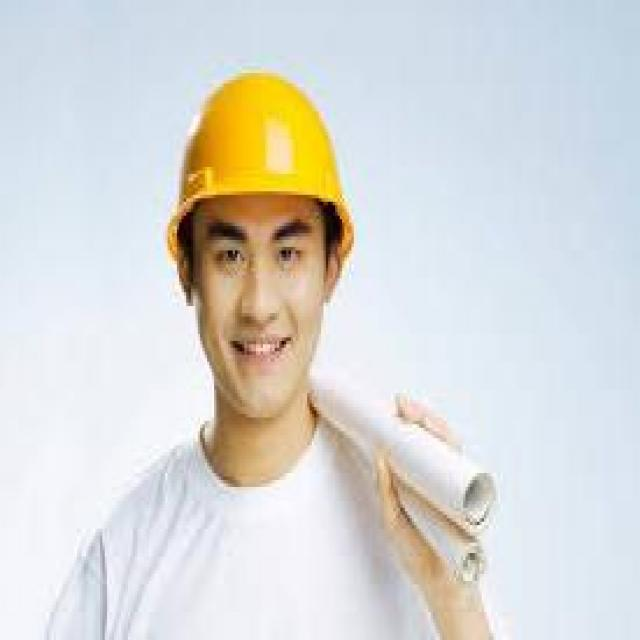safety_helmet: (160, 62, 358, 250)
